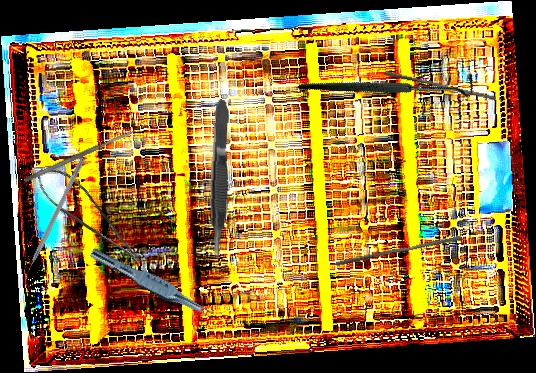Hook Surgical: (296, 2, 481, 164)
Micro Scissor: (29, 155, 146, 281)
Pusher: (19, 156, 86, 283), (334, 230, 463, 272), (383, 71, 497, 101)
Spatula Surgical: (22, 128, 136, 184)
Tissue Forceps: (86, 246, 219, 323), (205, 99, 234, 261)
